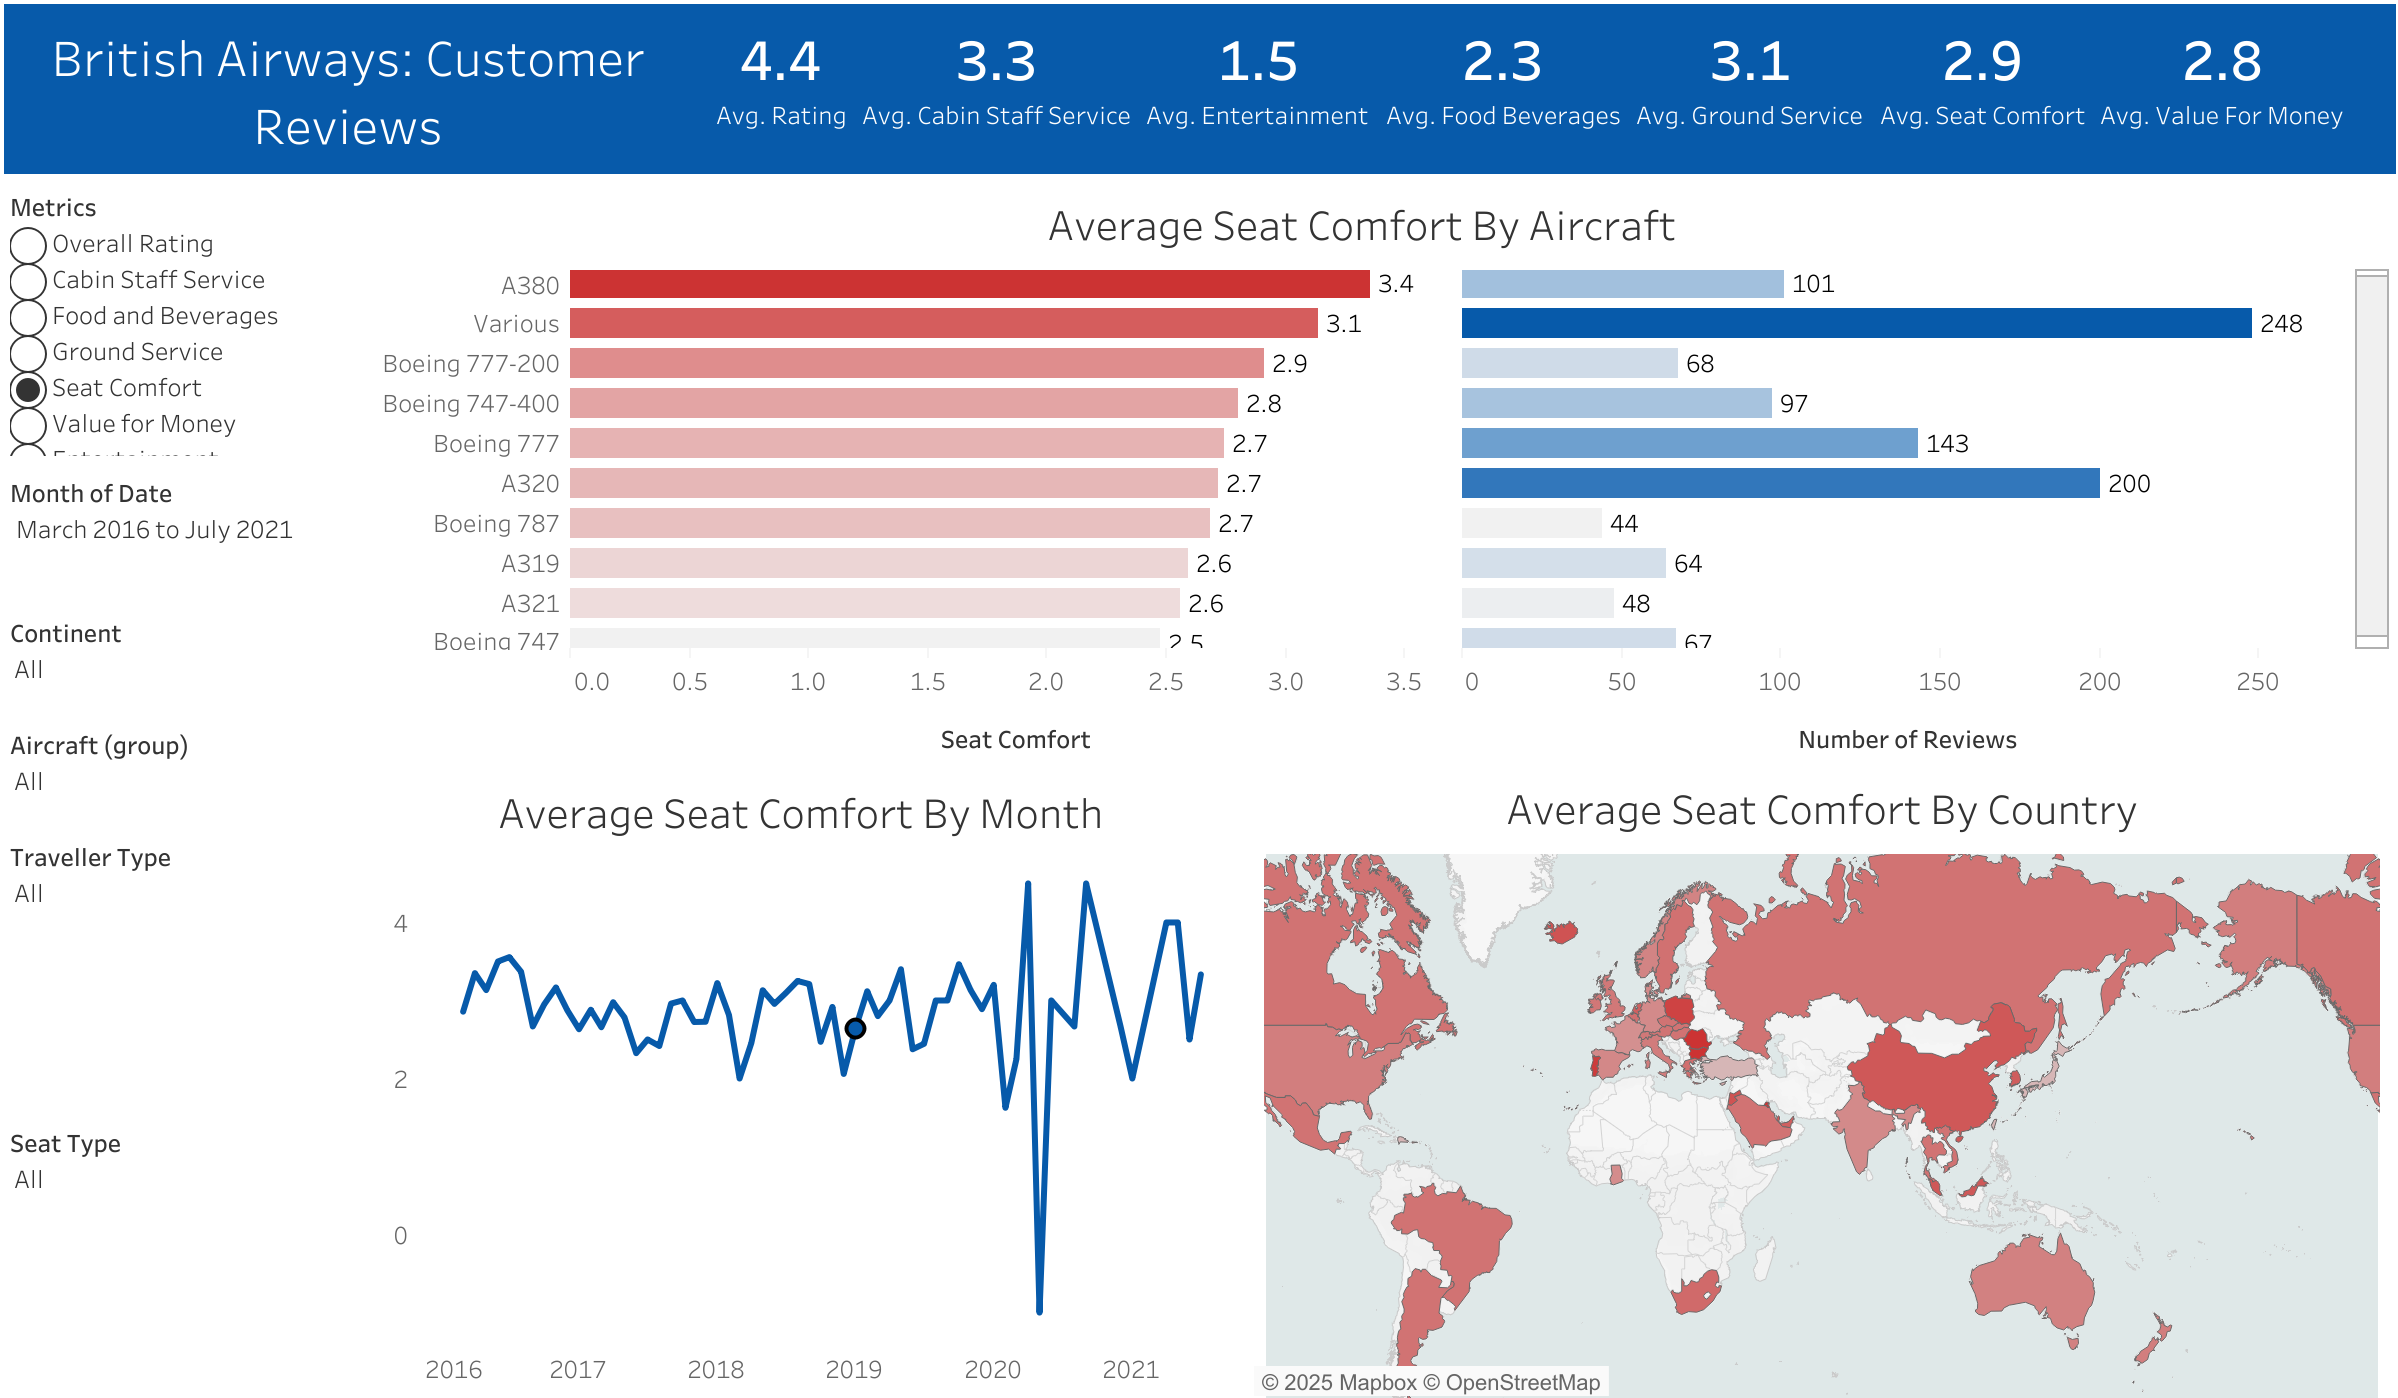

Layout of this report page (visuals, bound fields, positions):
{"tool":"tableau","page":{"name":"Dashboard 1","canvas":[1200,700],"ordinal":0},"visuals":[{"type":"text","box":[2,2,344,85]},{"type":"worksheet","title":"KPIS","mark":"Automatic","box":[346,2,852,85]},{"type":"worksheet","title":"Average Metric by Aircraft","mark":"Automatic","cols":["Calculation_5389401425067446272","ba_reviews.csv_0AA1F701781E452A9E34D37E0E7370D6"],"box":[181,88,1019,294]},{"type":"parameter","param":"[Parameters].[Parameter 1]","box":[1,89,173,146]},{"type":"filter","title":"Map","param":"[federated.1ubxiq30dnwzub1coa0l908h9pzr].[tmn:date:qk]","box":[1,235,173,69]},{"type":"filter","title":"Map","param":"[federated.1ubxiq30dnwzub1coa0l908h9pzr].[none:Continent:nk]","box":[1,304,173,52]},{"type":"filter","title":"Map","param":"[federated.1ubxiq30dnwzub1coa0l908h9pzr].[Aircraft (group)]","box":[1,356,173,52]},{"type":"worksheet","title":"Map","mark":"Automatic","box":[623,384,576,317]},{"type":"worksheet","title":"Average Metric by Month","mark":"Automatic","rows":["Calculation_5389401425067446272"],"cols":["date"],"box":[181,386,439,312]},{"type":"filter","title":"Map","param":"[federated.1ubxiq30dnwzub1coa0l908h9pzr].[none:traveller_type:nk]","box":[1,408,173,146]},{"type":"filter","title":"Map","param":"[federated.1ubxiq30dnwzub1coa0l908h9pzr].[none:seat_type:nk]","box":[1,554,173,146]}]}

Visuals, with their boxes in screenshot pixels (x1, y1, x2, y2), scaled from the page's 1200x700 canvas onto the 2398x1398 screenshot:
text: [4, 4, 691, 174]
"KPIS" worksheet: [691, 4, 2394, 174]
"Average Metric by Aircraft" worksheet: [362, 176, 2397, 763]
parameter: [2, 178, 348, 469]
"Map" filter: [2, 469, 348, 607]
"Map" filter: [2, 607, 348, 711]
"Map" filter: [2, 711, 348, 815]
"Map" worksheet: [1245, 767, 2396, 1397]
"Average Metric by Month" worksheet: [362, 771, 1239, 1394]
"Map" filter: [2, 815, 348, 1106]
"Map" filter: [2, 1106, 348, 1397]
